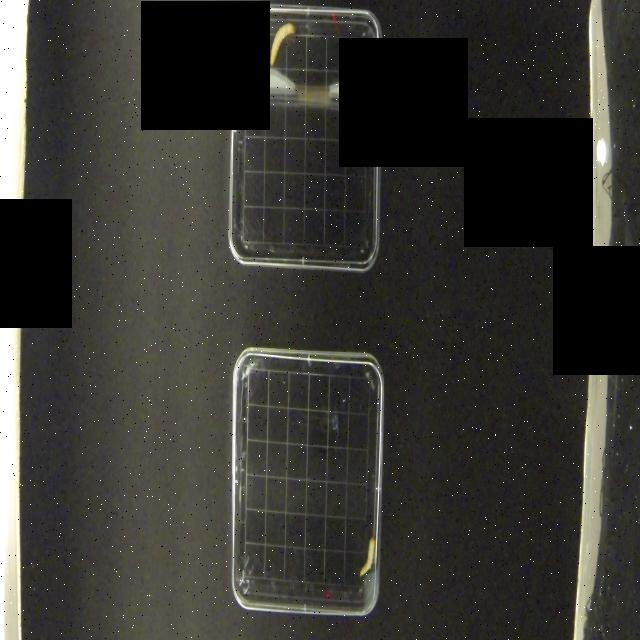larva: (269, 20, 296, 70), (358, 534, 377, 581)
